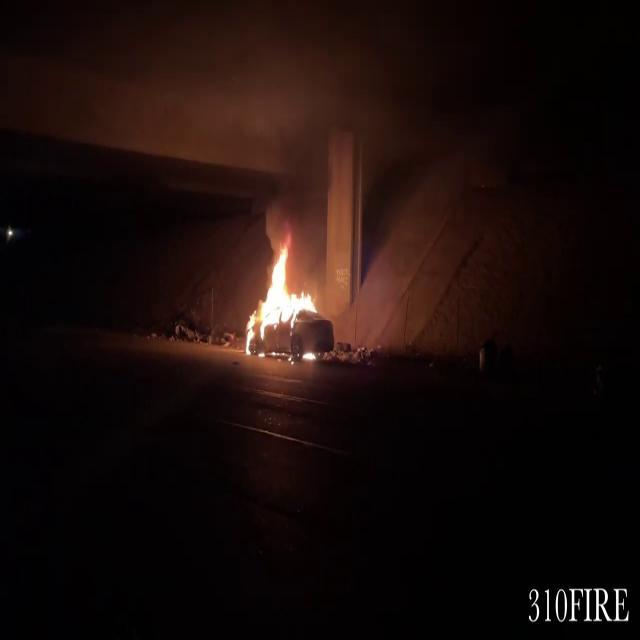Fire: (241, 231, 325, 359)
